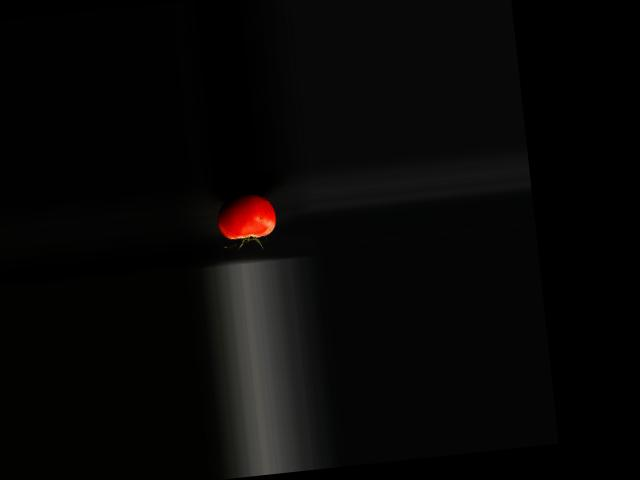tomato: (215, 191, 278, 240)
